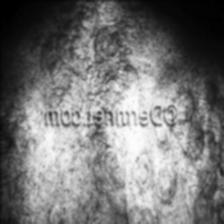Toxin: (154, 165, 176, 203), (182, 119, 204, 156), (93, 0, 132, 12)
